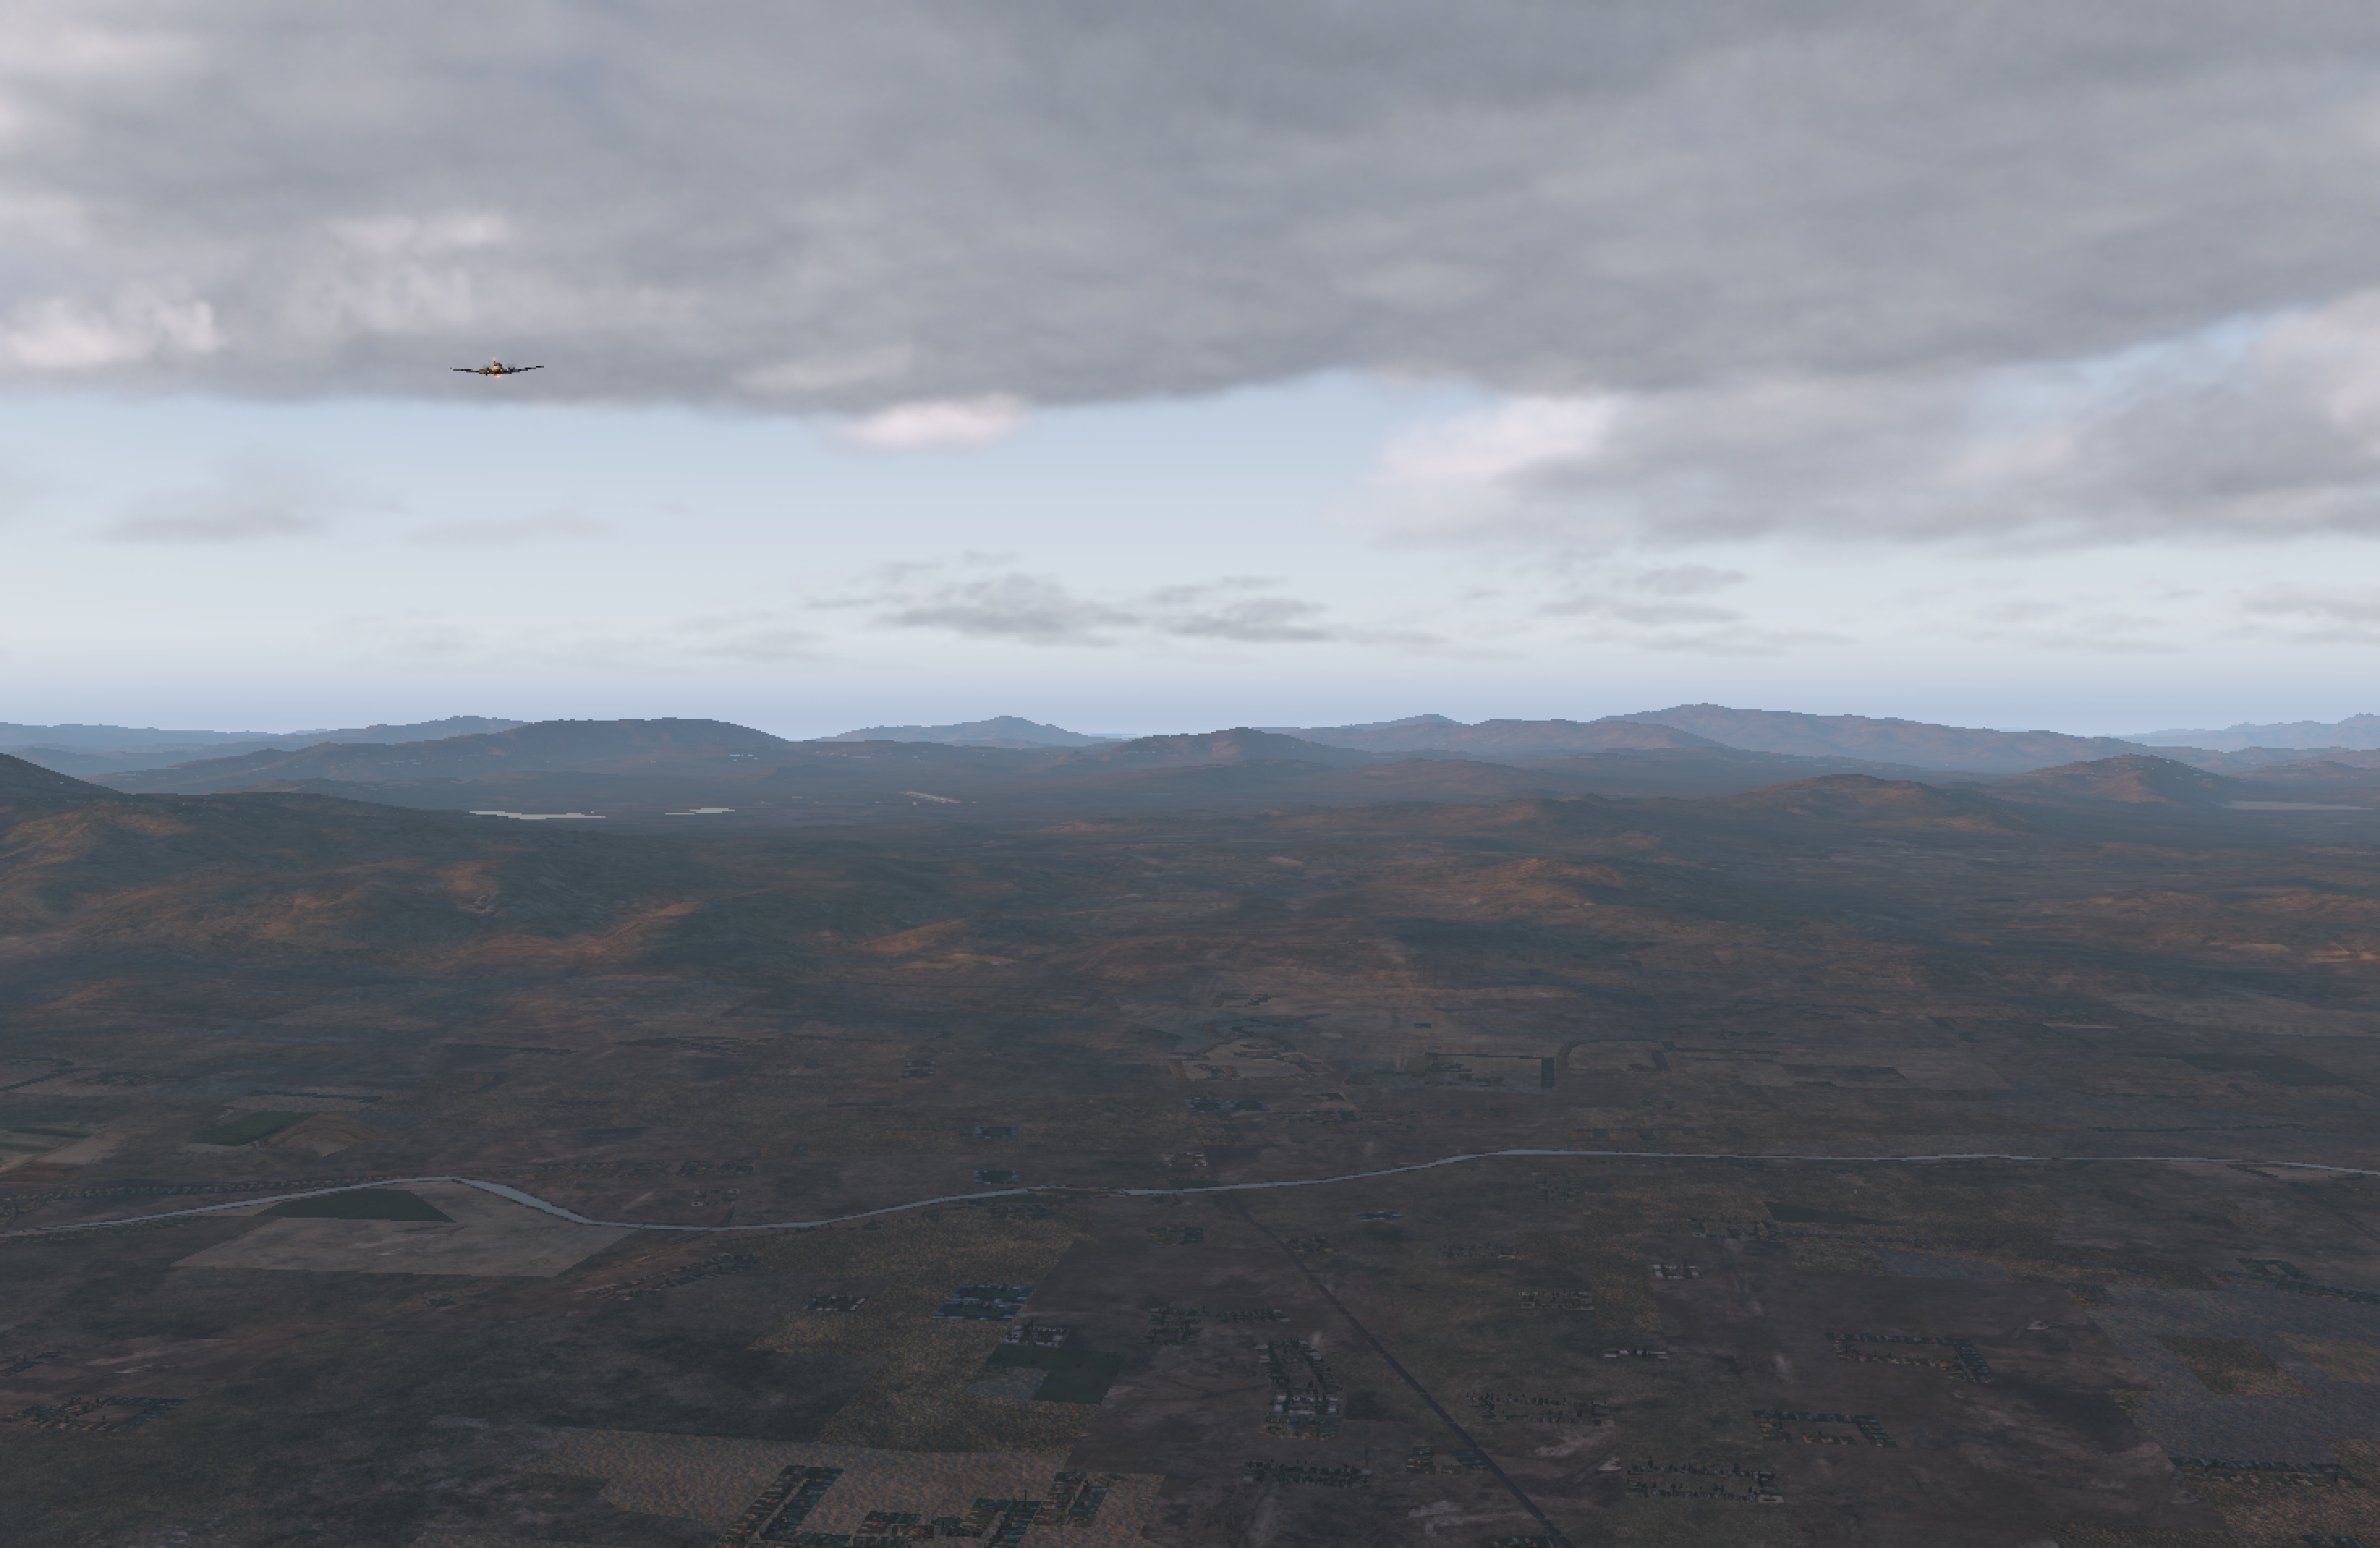aircraft: (456, 357, 541, 389)
